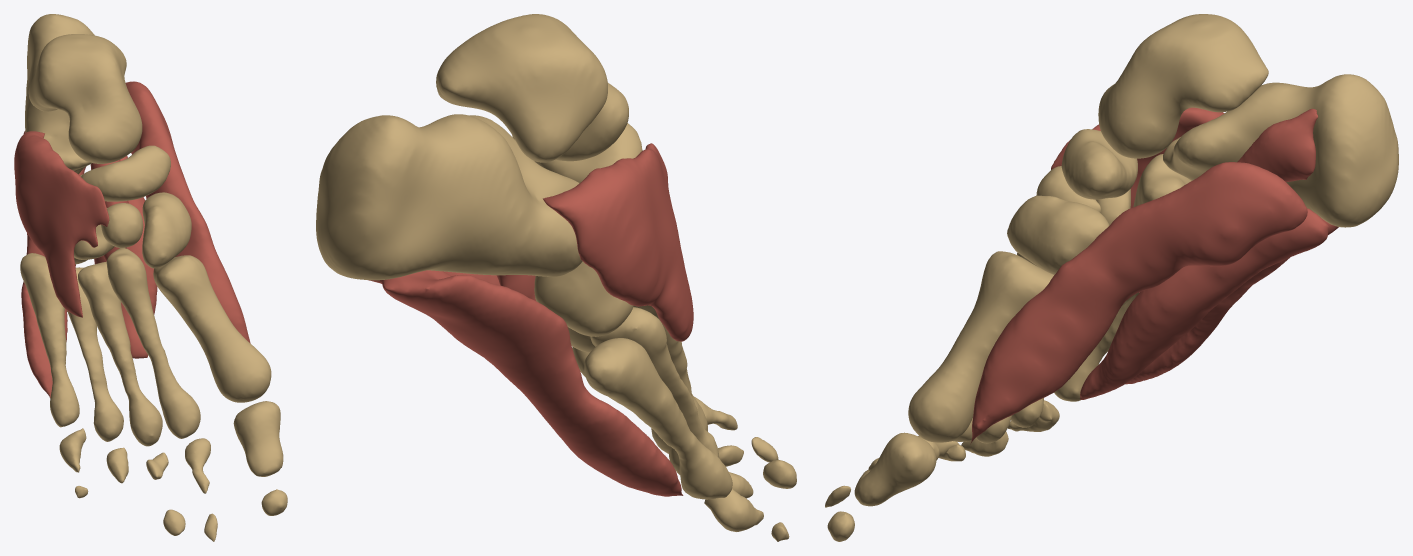
File: foot.glb
The picture shows the model from 3 angles, left to right: view 1: azimuth 30°, elevation 25°; view 2: azimuth 150°, elevation 25°; view 3: azimuth 270°, elevation 25°; orthographic projection. The views are drawn at different scales.
Parts seen in each view (by area): view 1: foot-bone-group, talus, extensor-digitorum-brevis, abductor-hallucis, calcaneus, navicular, medial-cuneiform, abductor-digiti-minimi, intermediate-cuneiform, flexor-digitorum-brevis, lateral-cuneiform; view 2: calcaneus, abductor-digiti-minimi, talus, foot-bone-group, extensor-digitorum-brevis, cuboid, navicular, quadratus-plantae; view 3: abductor-hallucis, foot-bone-group, calcaneus, talus, flexor-digitorum-brevis, medial-cuneiform, navicular, quadratus-plantae, abductor-digiti-minimi, cuboid, extensor-digitorum-brevis, intermediate-cuneiform.
Part boxes in pixels (x1=…): foot-bone-group: x1=20, y1=248, x2=287, y2=541; talus: x1=28, y1=34, x2=142, y2=163; extensor-digitorum-brevis: x1=14, y1=131, x2=109, y2=317; abductor-hallucis: x1=125, y1=81, x2=250, y2=343; calcaneus: x1=25, y1=14, x2=94, y2=174; navicular: x1=81, y1=145, x2=170, y2=201; medial-cuneiform: x1=142, y1=192, x2=191, y2=268; abductor-digiti-minimi: x1=21, y1=131, x2=86, y2=397; intermediate-cuneiform: x1=101, y1=203, x2=143, y2=247; flexor-digitorum-brevis: x1=94, y1=156, x2=157, y2=358; lateral-cuneiform: x1=74, y1=208, x2=114, y2=259; calcaneus: x1=316, y1=114, x2=582, y2=280; abductor-digiti-minimi: x1=381, y1=270, x2=683, y2=496; talus: x1=436, y1=14, x2=628, y2=162; foot-bone-group: x1=568, y1=305, x2=796, y2=541; extensor-digitorum-brevis: x1=543, y1=143, x2=693, y2=341; cuboid: x1=534, y1=261, x2=633, y2=336; navicular: x1=512, y1=123, x2=642, y2=182; quadratus-plantae: x1=496, y1=275, x2=535, y2=300; abductor-hallucis: x1=970, y1=162, x2=1307, y2=444; foot-bone-group: x1=825, y1=251, x2=1138, y2=541; calcaneus: x1=1163, y1=74, x2=1398, y2=227; talus: x1=1098, y1=14, x2=1268, y2=158; flexor-digitorum-brevis: x1=1080, y1=208, x2=1328, y2=399; medial-cuneiform: x1=1007, y1=195, x2=1109, y2=274; navicular: x1=1061, y1=129, x2=1137, y2=199; quadratus-plantae: x1=1139, y1=108, x2=1317, y2=292; abductor-digiti-minimi: x1=1125, y1=219, x2=1338, y2=384; cuboid: x1=1133, y1=154, x2=1191, y2=207; extensor-digitorum-brevis: x1=1051, y1=107, x2=1224, y2=207; intermediate-cuneiform: x1=1036, y1=166, x2=1100, y2=212.
Size of the model in its own units: 0.7919 by 1.61 by 1.7.
